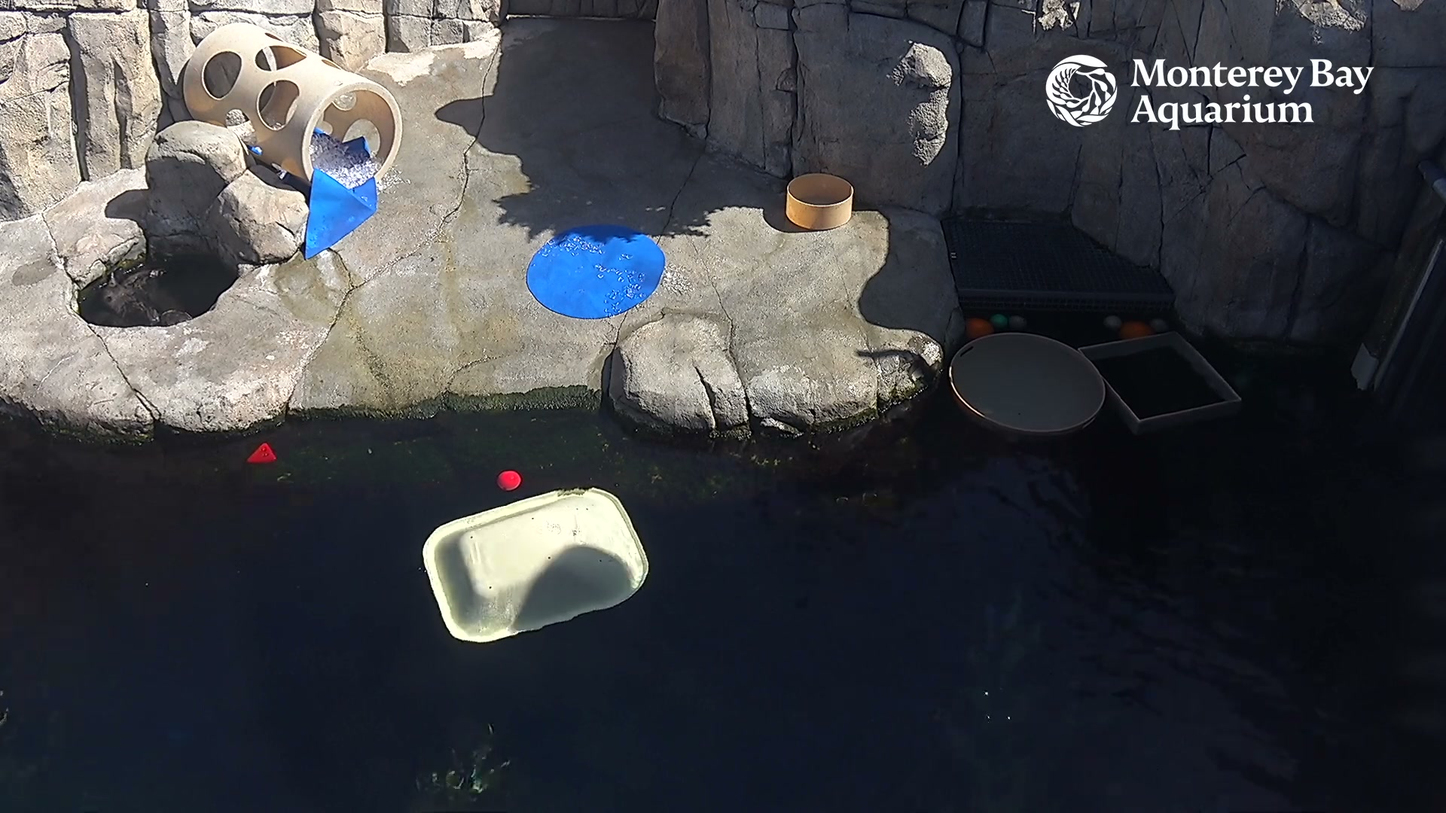Southern Sea Otter: (102, 264, 197, 330)
